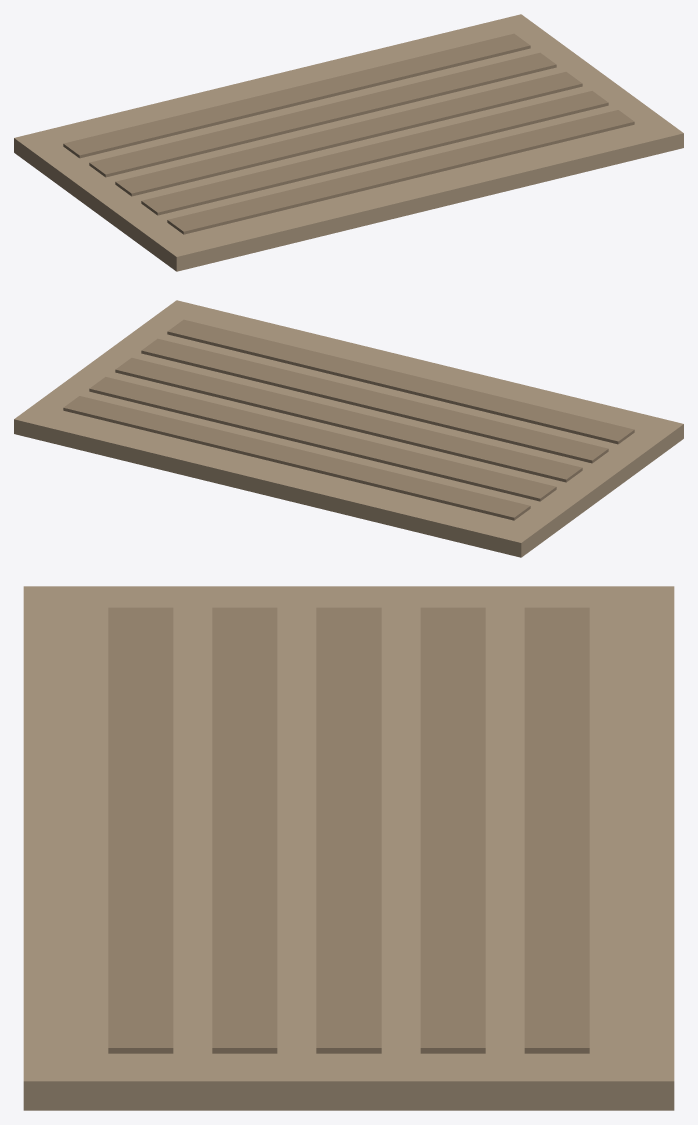
The model's file is piso_tapete_entrada.glb.
The picture shows the model from 3 angles, top to bottom: view 1: azimuth 30°, elevation 25°; view 2: azimuth 150°, elevation 25°; view 3: azimuth 270°, elevation 25°; orthographic projection. The views are drawn at different scales.
Parts seen in each view (by area): view 1: PISO_TAPETE_ENTRADA_v01; view 2: PISO_TAPETE_ENTRADA_v01; view 3: PISO_TAPETE_ENTRADA_v01.
Boxes of the visible parts, left/top/right/bottom form: PISO_TAPETE_ENTRADA_v01: left=14, top=14, right=683, bottom=271; PISO_TAPETE_ENTRADA_v01: left=14, top=300, right=683, bottom=557; PISO_TAPETE_ENTRADA_v01: left=23, top=586, right=674, bottom=1110.
Bounding box in the file's own units: 0.9 × 0.03 × 0.5.
